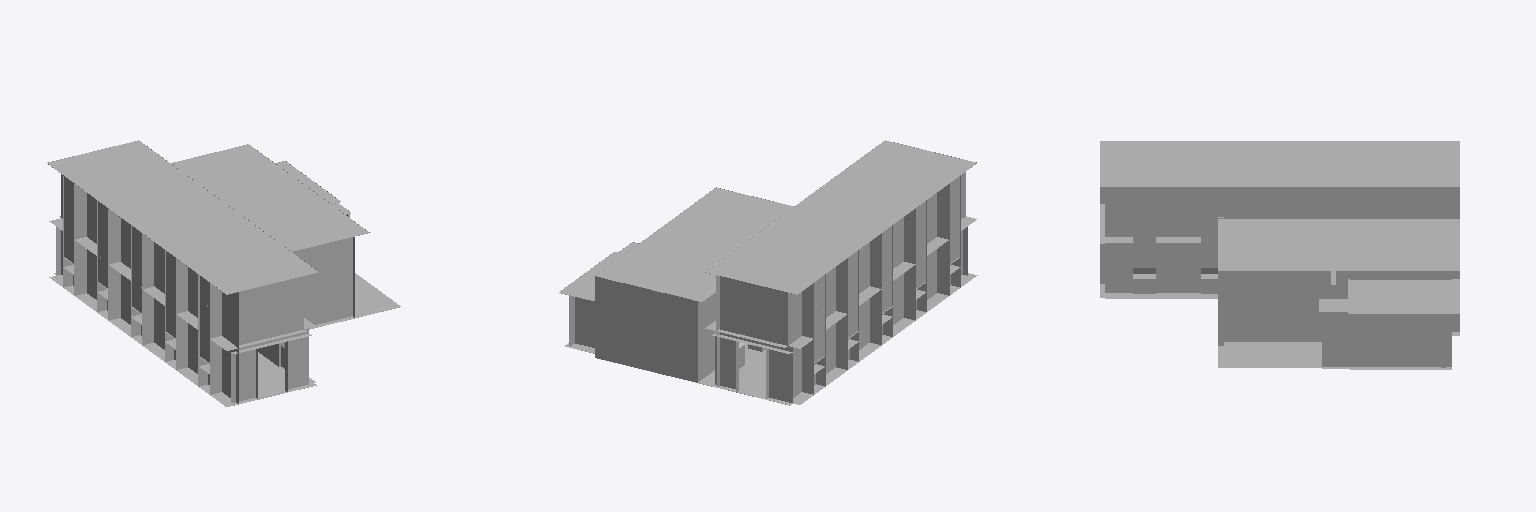
The model's file is LC_cont2_scps2.obj.
3 views of the same model, side by side, from view 1: azimuth 30°, elevation 25°; view 2: azimuth 150°, elevation 25°; view 3: azimuth 270°, elevation 25° (orthographic).
Parts seen in each view (by area): view 1: LC_cont2_scps2; view 2: LC_cont2_scps2; view 3: LC_cont2_scps2.
Boxes of the visible parts, x1=… form: LC_cont2_scps2: x1=47, y1=140, x2=400, y2=406; LC_cont2_scps2: x1=559, y1=140, x2=977, y2=405; LC_cont2_scps2: x1=1100, y1=141, x2=1459, y2=369.
Size of the model in its own units: 15.31 by 6.89 by 20.01.